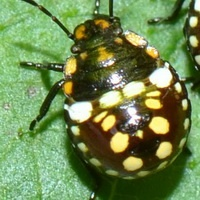insect: (183, 0, 199, 92)
